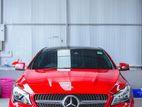car: (5, 45, 135, 107)
